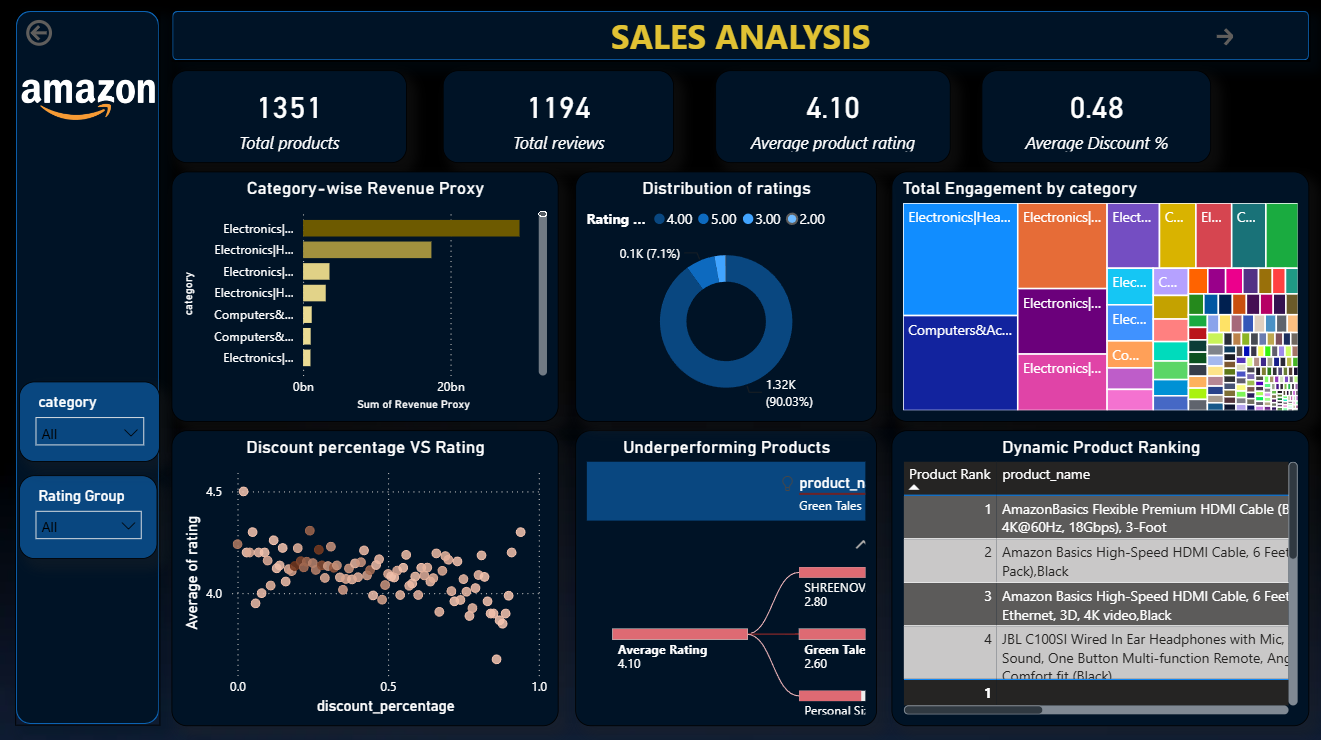

This screenshot's page, from the dashboard's own definition file:
{"tool":"powerbi","page":{"name":"Dashboard","canvas":[1280,720],"ordinal":4},"visuals":[{"type":"shape","title":"AMAZON SALES","box":[166.5,10.9,1099.1,49.5],"z":0},{"type":"shape","title":"AMAZON SALES","box":[15.7,10.9,139.9,690.1],"z":1000},{"type":"card","fields":{"Values":["Count(amazon_sales.product_id)"]},"box":[166.5,68.8,226.8,89.3],"z":2000},{"type":"card","fields":{"Values":["Count(amazon_sales.review_id)"]},"box":[428.3,68.8,223.2,89.3],"z":3000},{"type":"card","fields":{"Values":["Avg(amazon_sales.rating)"]},"box":[691.3,68.8,226.8,89.3],"z":4000},{"type":"card","fields":{"Values":["Avg(amazon_sales.discount_percentage)"]},"box":[948.3,68.8,222,89.3],"z":5000},{"type":"image","box":[21.7,68.8,129.1,56.7],"z":6000},{"type":"slicer","fields":{"Values":["amazon_sales.Rating Group"]},"box":[19.3,459.7,133.9,80.8],"z":7000},{"type":"slicer","fields":{"Values":["amazon_sales.category"]},"box":[19.3,369.2,136.3,77.2],"z":8000},{"type":"clusteredBarChart","title":"Category-wise Revenue Proxy","fields":{"Category":["amazon_sales.category"],"Y":["Sum(amazon_sales.Revenue Proxy)"]},"box":[166,166,373.2,241.5],"z":9000},{"type":"treemap","fields":{"Group":["amazon_sales.category"],"Values":["amazon_sales.Total Engagement"]},"box":[861.8,166,403.4,241.5],"z":10000},{"type":"decompositionTreeVisual","title":"Underperforming Products","fields":{"ExplainBy":["amazon_sales.product_name","amazon_sales.category","amazon_sales.discount_percentage","amazon_sales.rating_count"],"Analyze":["amazon_sales.Average Rating"]},"box":[555.7,415.8,290.9,285.4],"z":11000},{"type":"donutChart","title":"Distribution of ratings","fields":{"Y":["CountNonNull(amazon_sales.rating)"],"Category":["amazon_sales.Rating Group"]},"box":[555.7,166,290.9,241.5],"z":12000},{"type":"scatterChart","title":"Discount percentage VS Rating","fields":{"Y":["Avg(amazon_sales.rating)"],"X":["amazon_sales.discount_percentage"]},"box":[166,415.8,373.2,285.4],"z":13000},{"type":"tableEx","title":"Dynamic Product Ranking","fields":{"Values":["amazon_sales.Product Rank","amazon_sales.product_name","amazon_sales.Performance Score","Avg(amazon_sales.rating)","Sum(amazon_sales.rating_count)","Avg(amazon_sales.discount_percentage)"]},"box":[861.8,415.8,403.4,285.4],"z":14000},{"type":"actionButton","box":[22,16,56,34],"z":14001},{"type":"actionButton","box":[1170,24,51,25],"z":14002}]}

Visuals, with their boxes in screenshot pixels (x1, y1, x2, y2), scaled from the page's 1280x720 canvas onto the 1321x740 screenshot:
"AMAZON SALES" shape: <region>172, 11, 1306, 62</region>
"AMAZON SALES" shape: <region>16, 11, 161, 720</region>
card - Count(amazon_sales.product_id): <region>172, 71, 406, 162</region>
card - Count(amazon_sales.review_id): <region>442, 71, 672, 162</region>
card - Avg(amazon_sales.rating): <region>713, 71, 948, 162</region>
card - Avg(amazon_sales.discount_percentage): <region>979, 71, 1208, 162</region>
image: <region>22, 71, 156, 129</region>
slicer - amazon_sales.Rating Group: <region>20, 472, 158, 556</region>
slicer - amazon_sales.category: <region>20, 379, 161, 459</region>
"Category-wise Revenue Proxy" clusteredBarChart: <region>171, 171, 556, 419</region>
treemap - amazon_sales.category x amazon_sales.Total Engagement: <region>889, 171, 1306, 419</region>
"Underperforming Products" decompositionTreeVisual: <region>573, 427, 874, 721</region>
"Distribution of ratings" donutChart: <region>573, 171, 874, 419</region>
"Discount percentage VS Rating" scatterChart: <region>171, 427, 556, 721</region>
"Dynamic Product Ranking" tableEx: <region>889, 427, 1306, 721</region>
actionButton: <region>23, 16, 80, 51</region>
actionButton: <region>1207, 25, 1260, 50</region>
